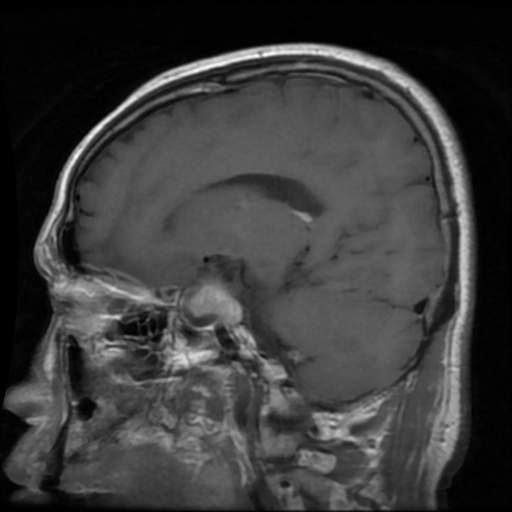pituitary: (186, 281, 243, 328)
